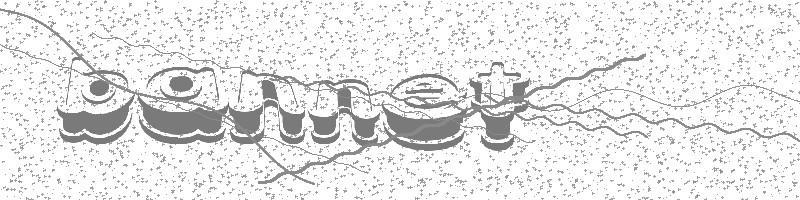a: (136, 66, 229, 145)
b: (55, 57, 135, 146)
e: (381, 72, 467, 152)
n: (229, 68, 308, 147), (307, 77, 381, 149)
t: (468, 61, 528, 152)
